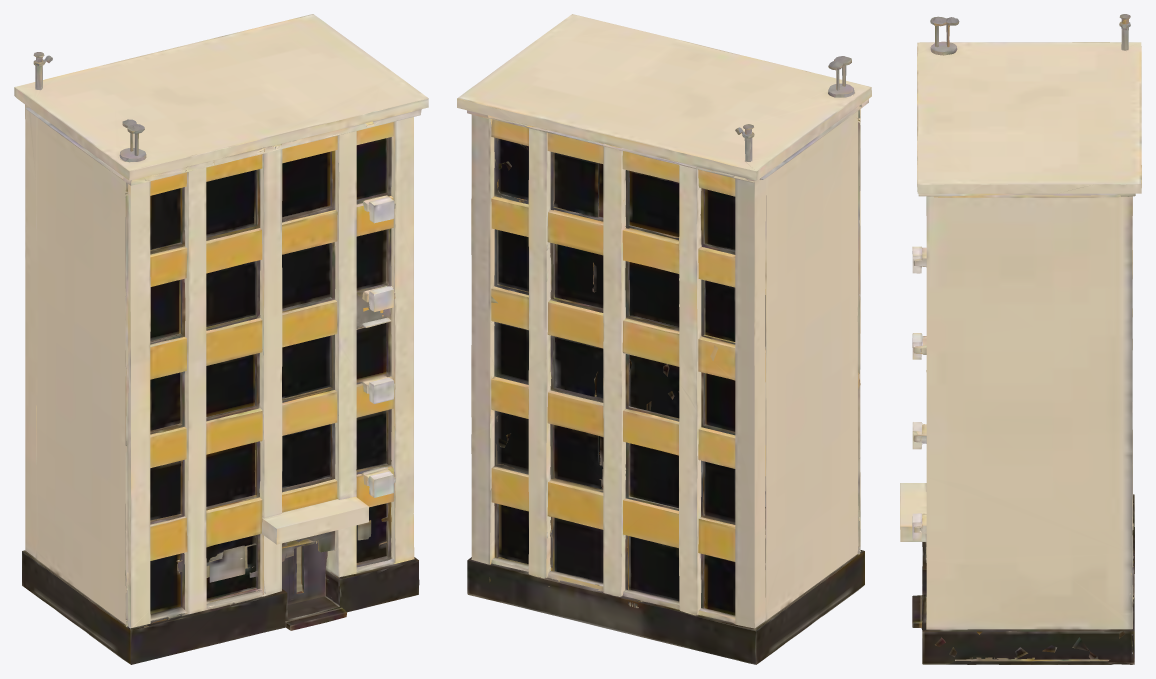
Rendered from facade-office.glb.
3 views of the same model, side by side, from view 1: azimuth 30°, elevation 25°; view 2: azimuth 150°, elevation 25°; view 3: azimuth 270°, elevation 25° (orthographic). The views are drawn at different scales.
Parts seen in each view (by area): view 1: geometry_0; view 2: geometry_0; view 3: geometry_0.
Part boxes in pixels (<box>): geometry_0: <box>14,14,428,664</box>; geometry_0: <box>457,14,871,664</box>; geometry_0: <box>900,14,1141,664</box>.
Size of the model in its own units: 0.5905 by 1 by 0.4239.
Materials: 1 (1 with a texture image).
